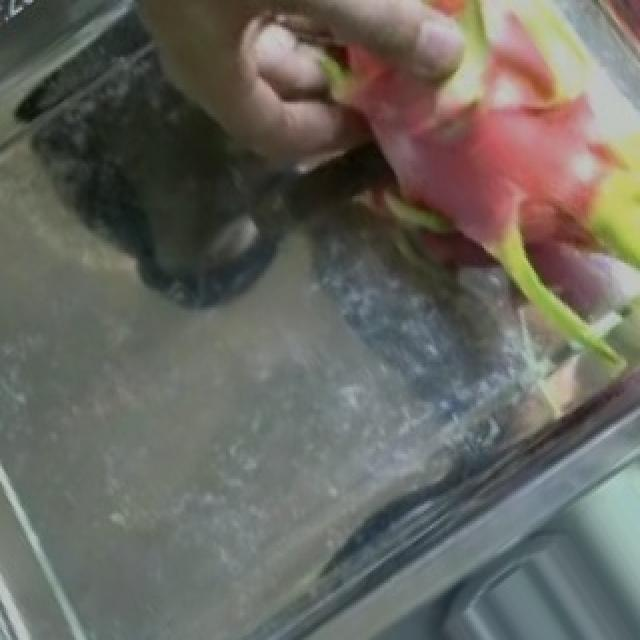fruit: (244, 0, 640, 422)
